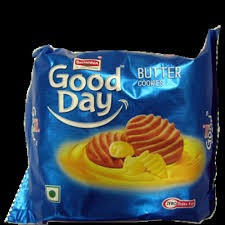gooday-medium: (26, 43, 215, 224)
